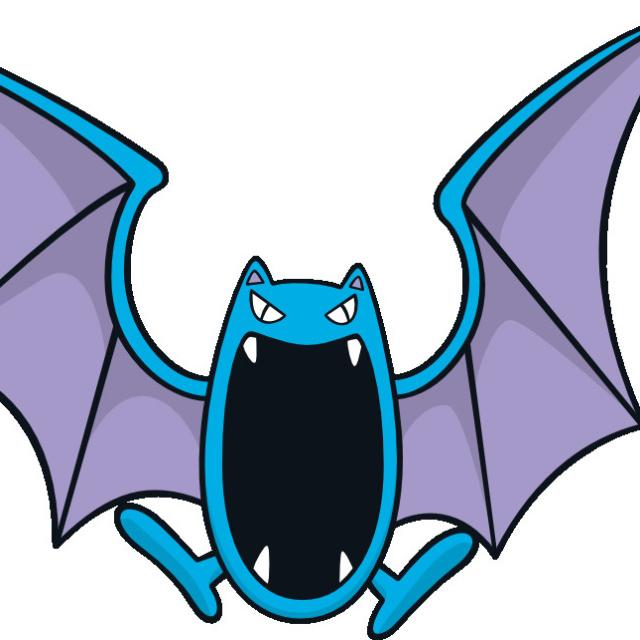Golbat: (63, 166, 505, 633)
